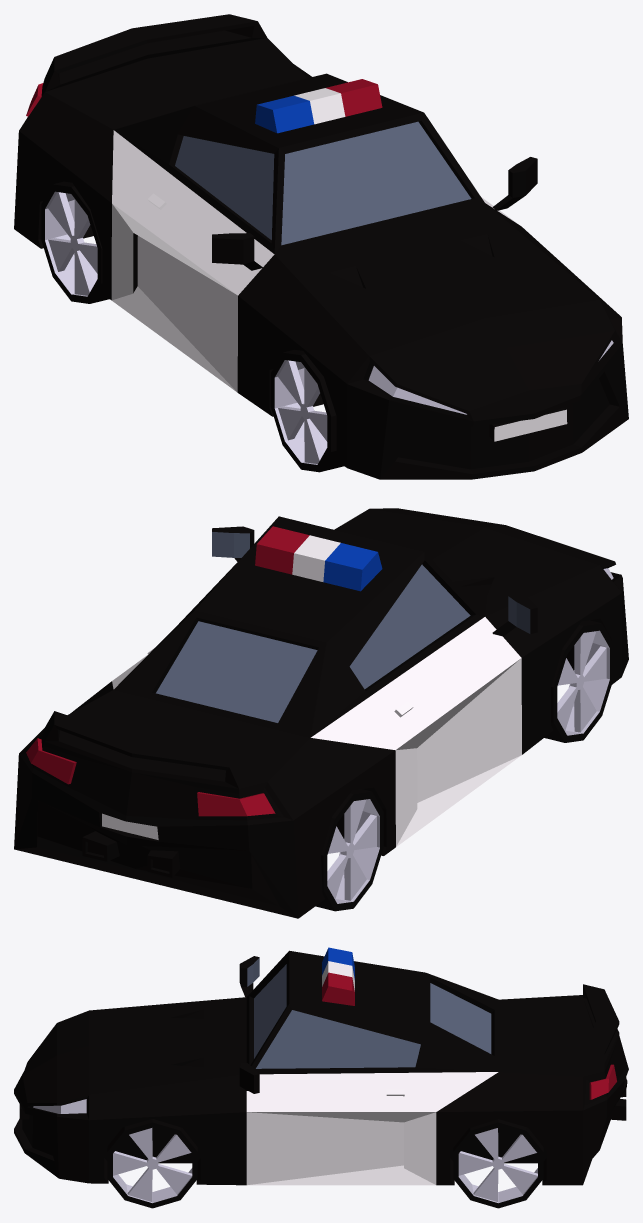
The model's file is mod-viatura-esportiva.gltf.
3 renders of one model, top to bottom at view 1: azimuth 30°, elevation 25°; view 2: azimuth 150°, elevation 25°; view 3: azimuth 270°, elevation 25°, orthographic. The views are drawn at different scales.
Parts seen in each view (by area): view 1: Police Sports, Police Sports wheel front left; view 2: Police Sports, Police Sports wheel front left; view 3: Police Sports, Police Sports wheel front left.
Part boxes in pixels (x1=…): Police Sports: x1=14, y1=14, x2=628, y2=479; Police Sports wheel front left: x1=41, y1=181, x2=343, y2=472; Police Sports: x1=14, y1=508, x2=628, y2=918; Police Sports wheel front left: x1=315, y1=620, x2=613, y2=911; Police Sports: x1=14, y1=947, x2=628, y2=1185; Police Sports wheel front left: x1=107, y1=1119, x2=543, y2=1208.
Bounding box in the file's own units: 2.32 × 1.72 × 5.04.
